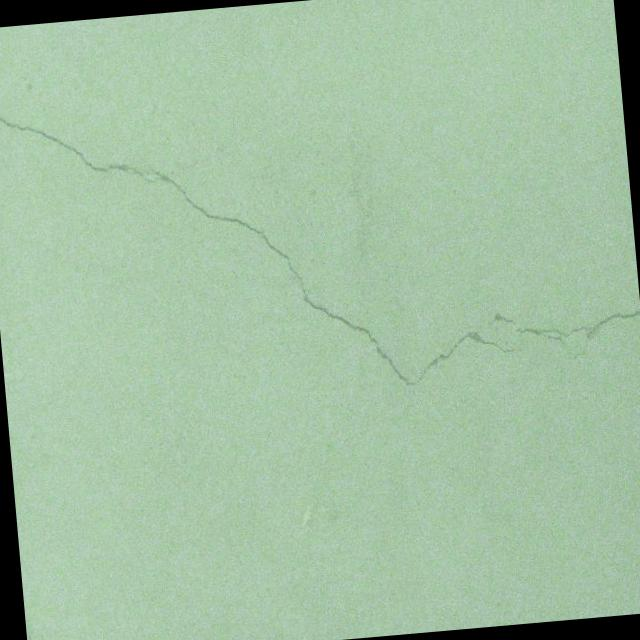crack: (0, 57, 640, 422)
